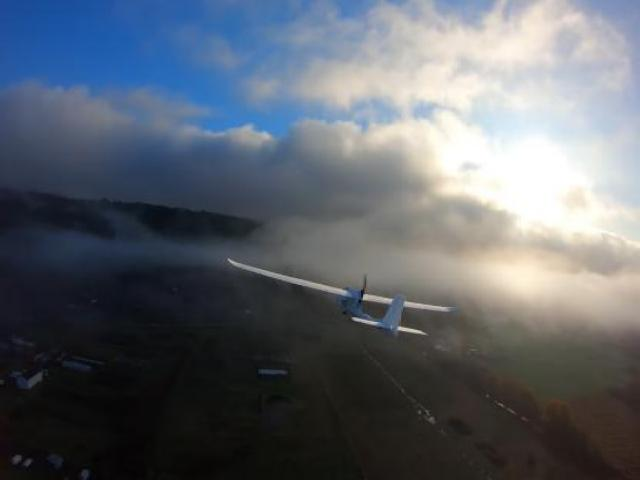uav: (224, 245, 461, 357)
